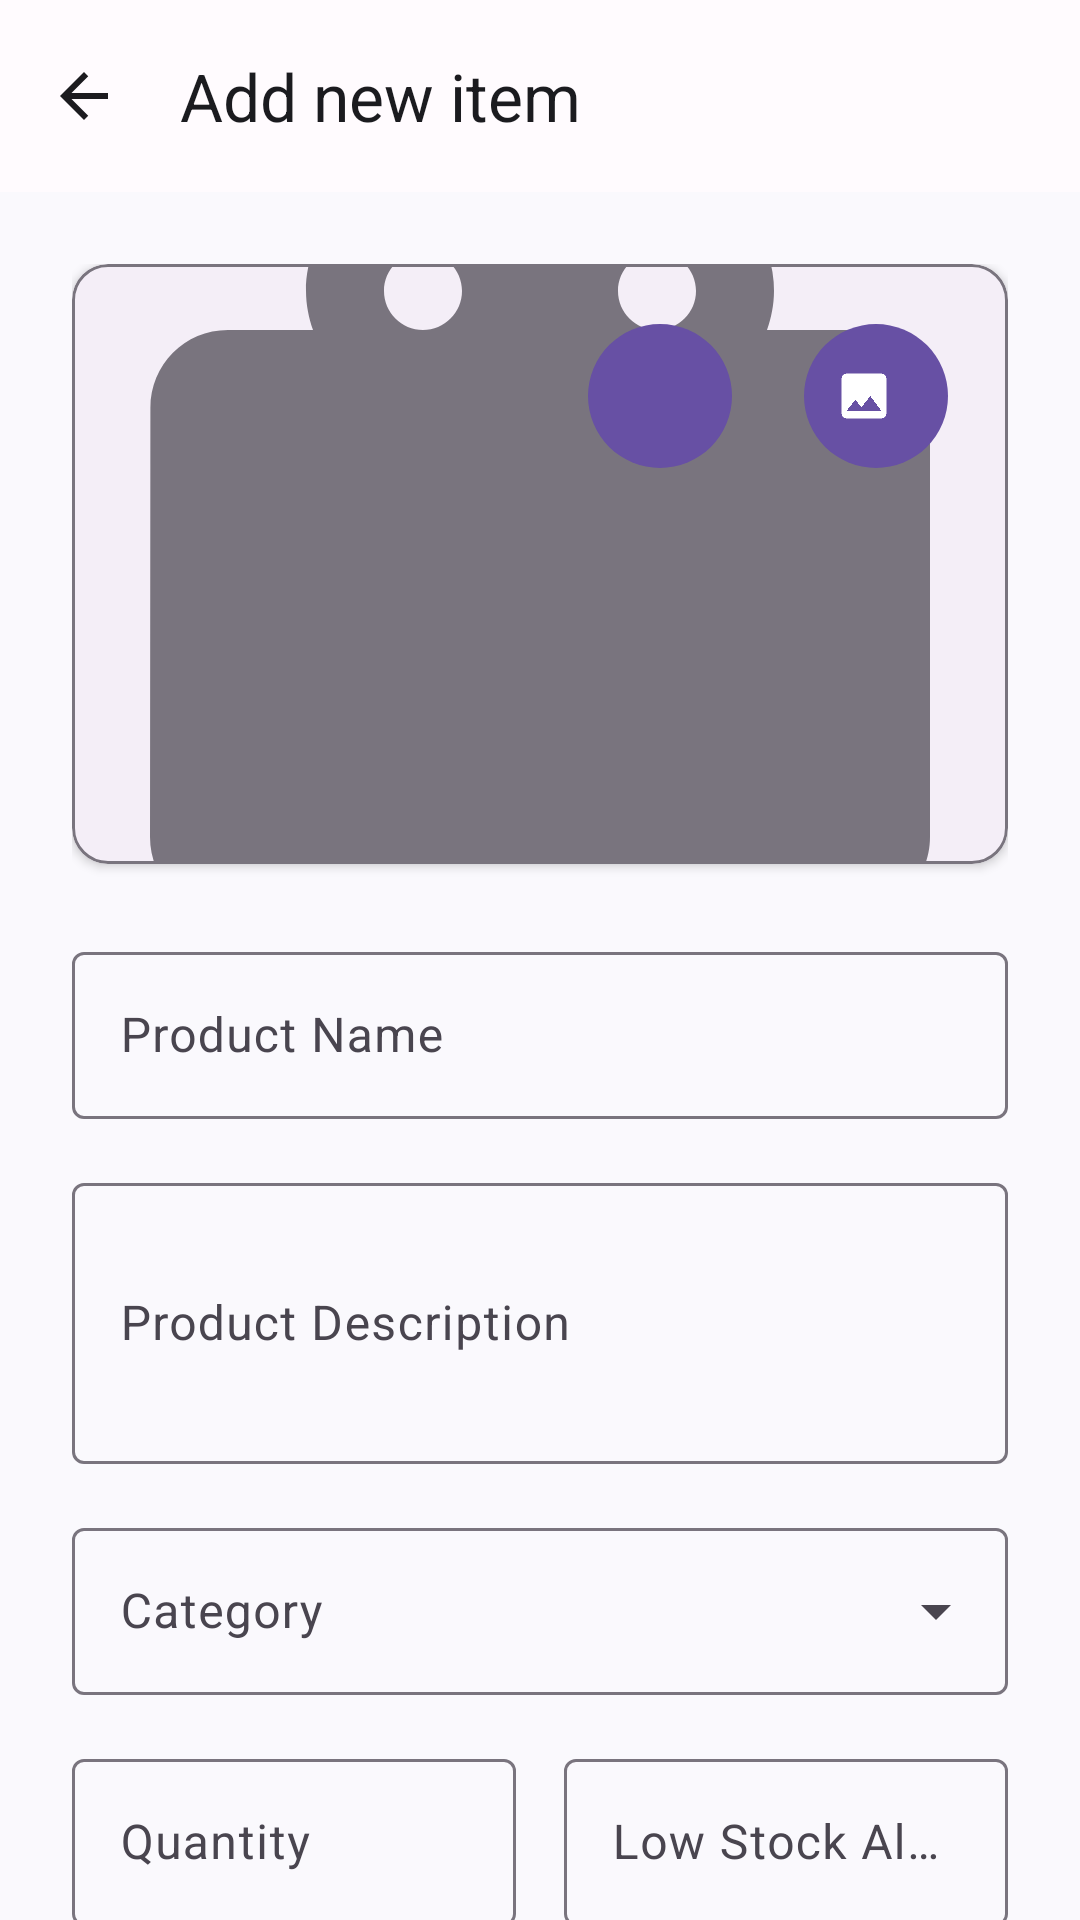

Where to tap for icons on this 1080w x 1920h app screen, as (x=x, y=y):
Choose from gallery: (x=876, y=396)
